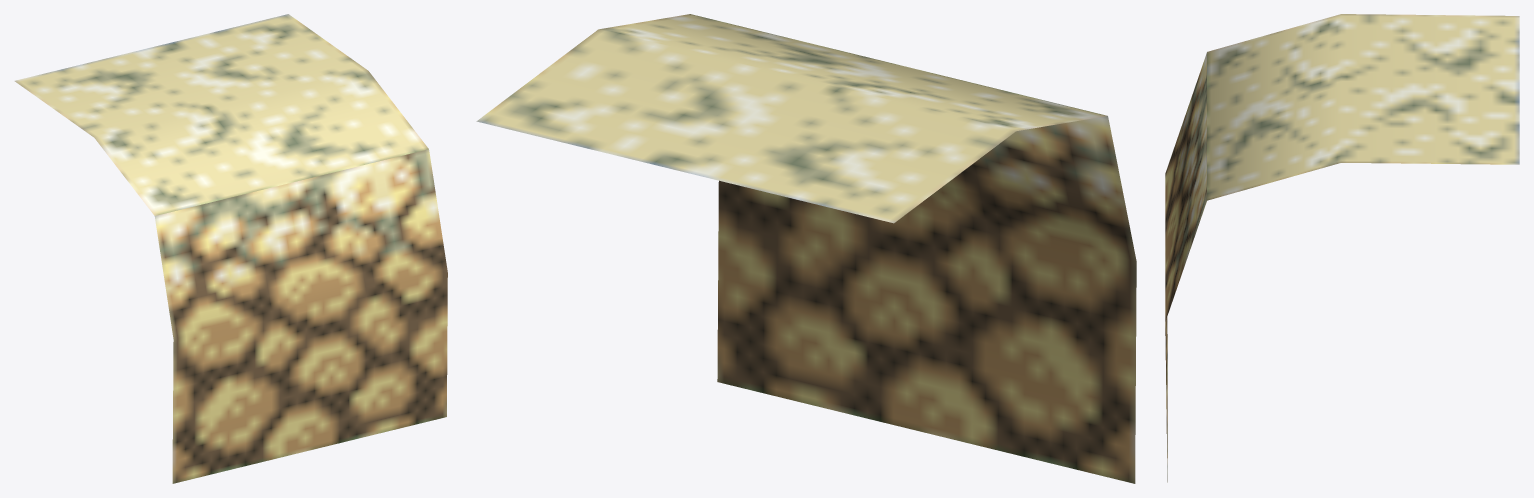
File: sandDTile_groundEdge_lower.fbx
3 views of the same model, side by side, from view 1: azimuth 30°, elevation 25°; view 2: azimuth 150°, elevation 25°; view 3: azimuth 270°, elevation 25° (orthographic). The views are drawn at different scales.
Visible parts, largest first — view 1: sandDTile_groundEdge_lower; view 2: sandDTile_groundEdge_lower; view 3: sandDTile_groundEdge_lower.
Part boxes in pixels (bbox=[...]): sandDTile_groundEdge_lower: bbox=[14, 14, 447, 483]; sandDTile_groundEdge_lower: bbox=[476, 14, 1136, 483]; sandDTile_groundEdge_lower: bbox=[1165, 14, 1519, 482].
Size of the model in its own units: 1 by 1.01 by 1.01.
